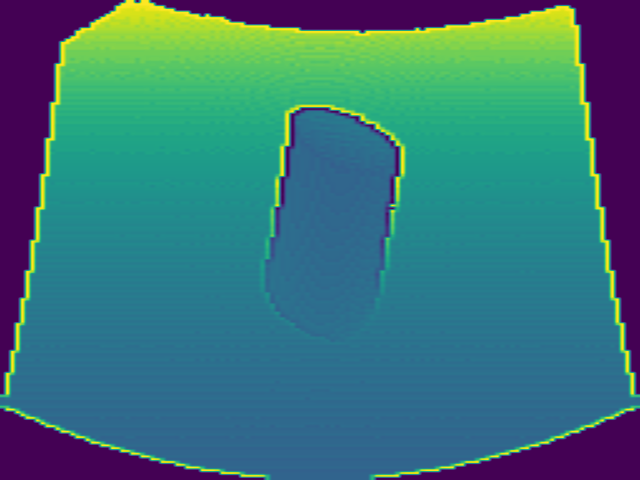cylinder: (259, 103, 409, 342)
